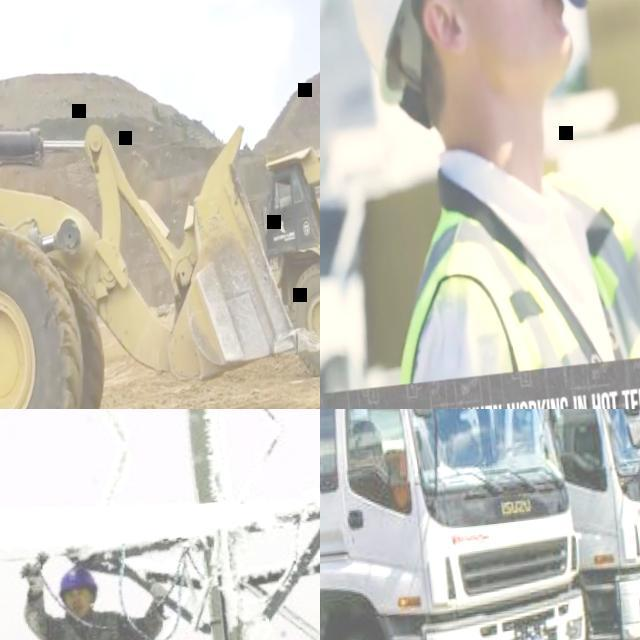Helmet: (338, 0, 456, 121), (50, 564, 114, 602)
Robbery: (347, 0, 640, 401), (8, 547, 195, 640)
